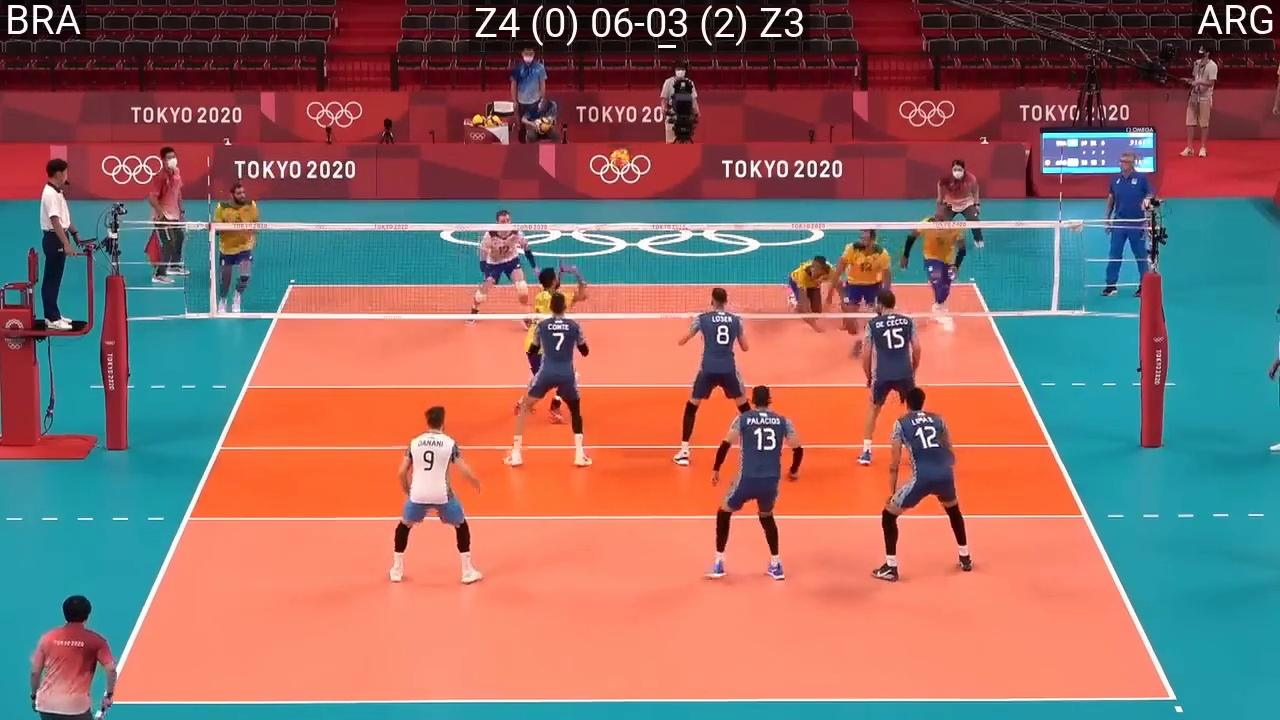ball: (609, 149, 633, 169)
